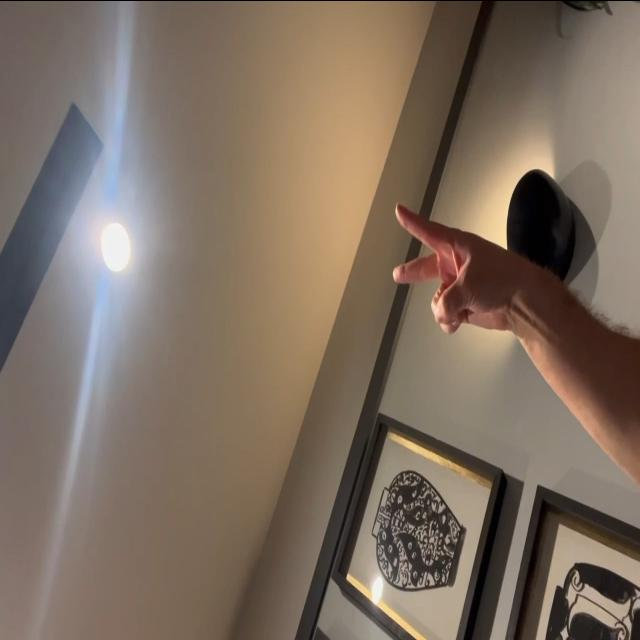Scissors: (392, 200, 523, 336)
